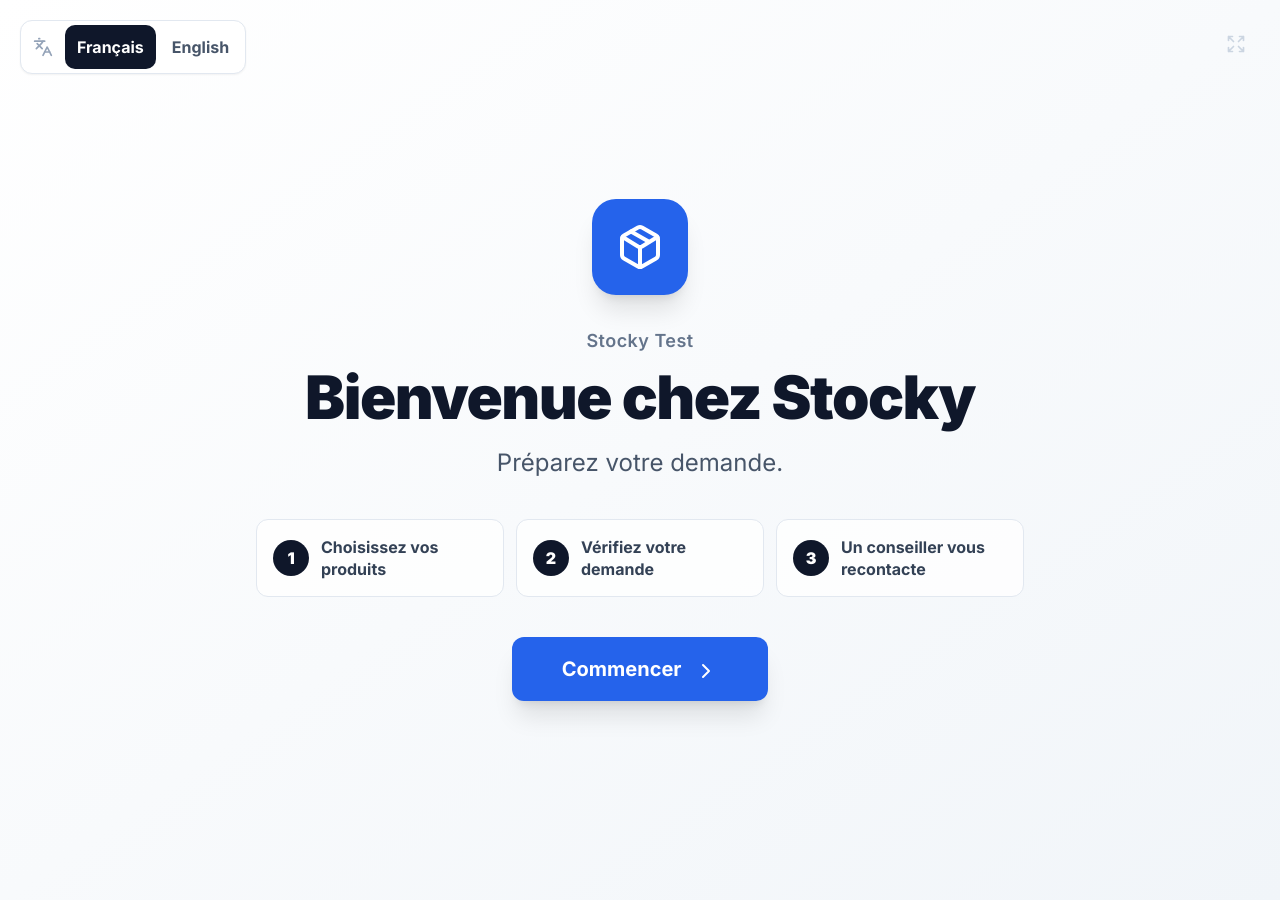
Test case: KioskPage › removes a line from the review step
Expected: the heading "Bienvenue chez Stocky" is shown, [305,367,975,427]
Click the button "Commencer".
click(640, 669)  # box [512,637,768,701]
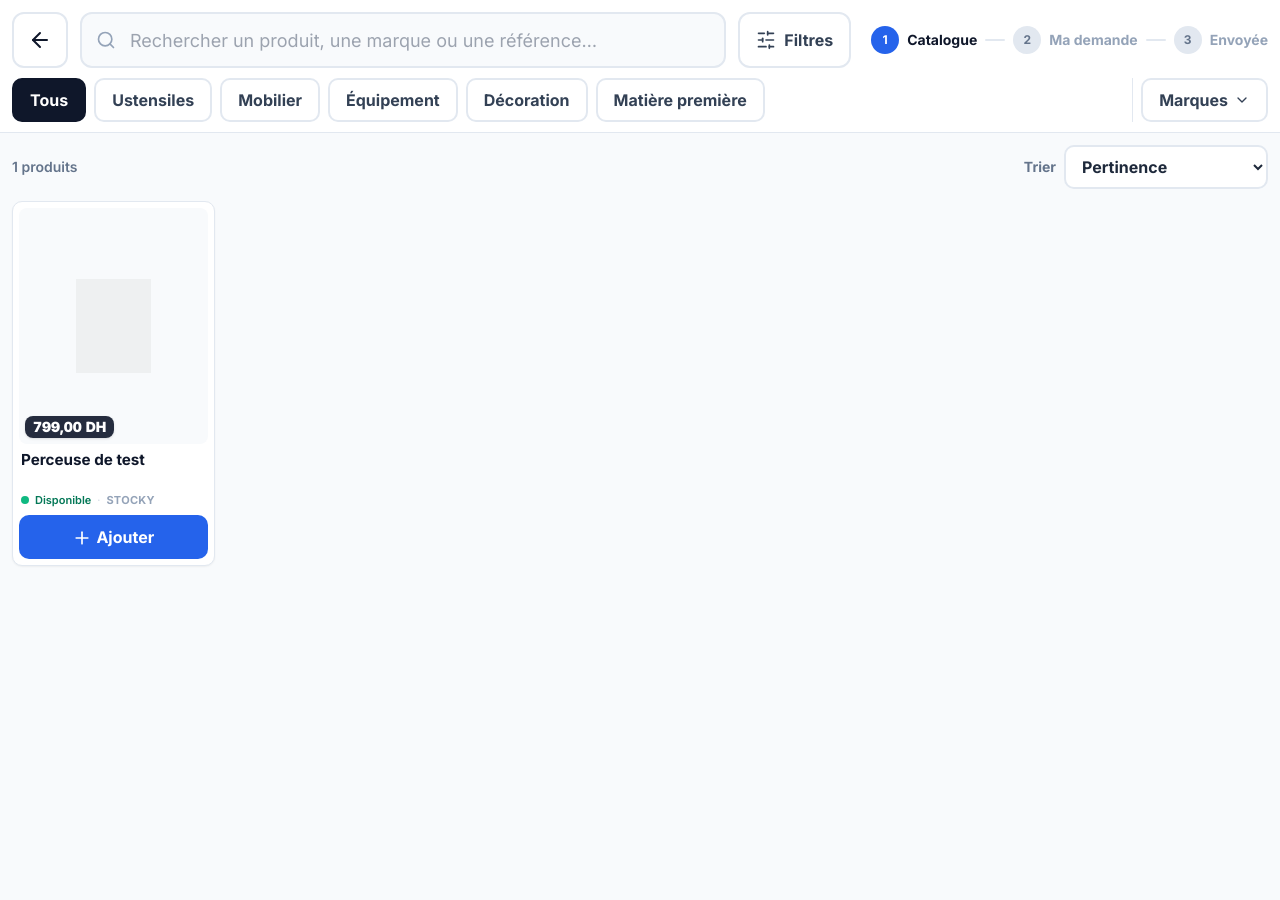
Expected: the heading "Perceuse de test" is shown, [21,450,145,469]
Click the button "Ajouter".
click(113, 537)  # box [19,515,208,559]
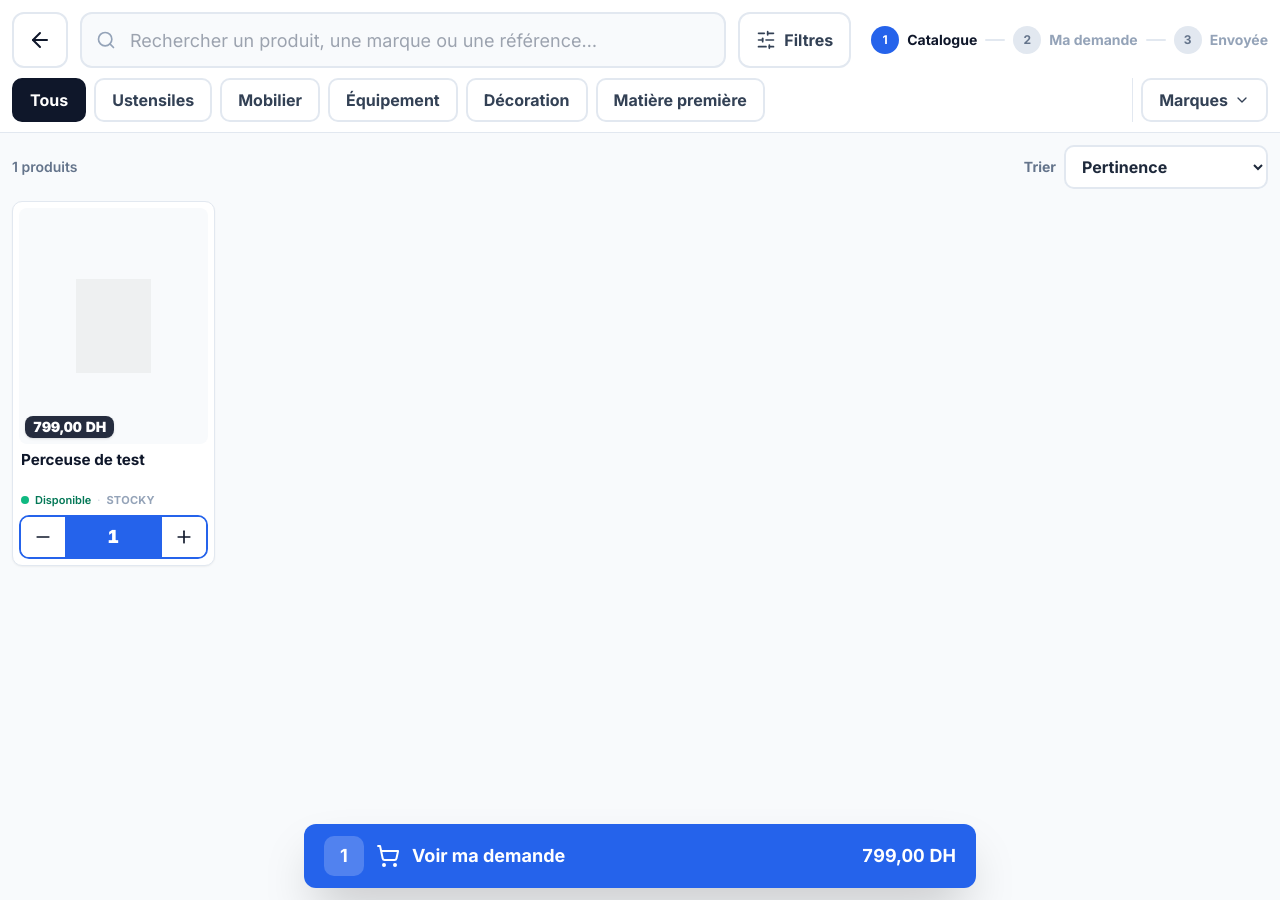
Click the button "1 Voir ma demande 799,00 DH".
click(344, 856)  # box [304,824,976,888]
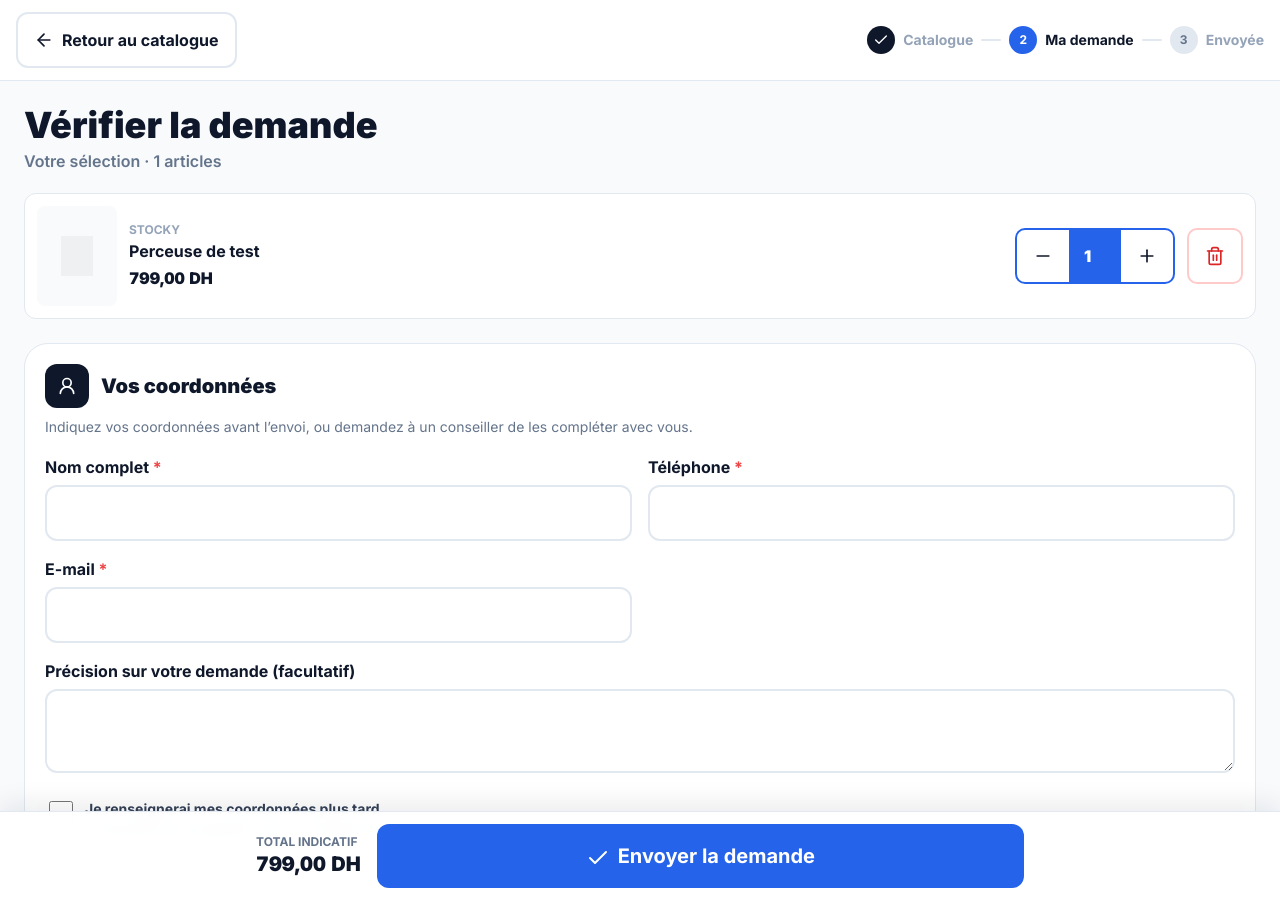
Expected: the heading "Vérifier la demande" is shown, [24,103,378,147]
Click the button named "Retirer".
click(1215, 256)  # box [1187,228,1243,284]
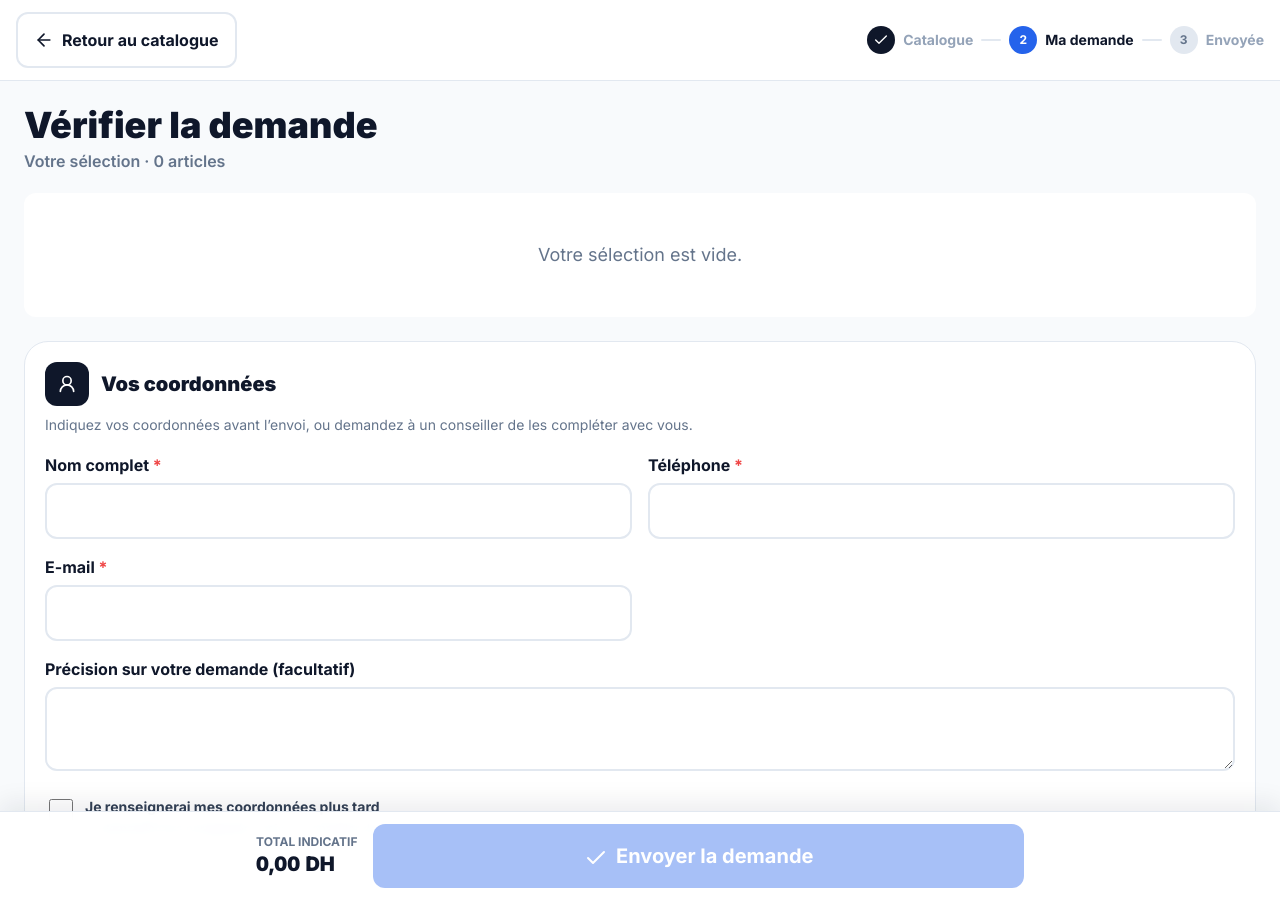
Expected: the text "Votre sélection est vide." is shown, [24,193,1256,317]
